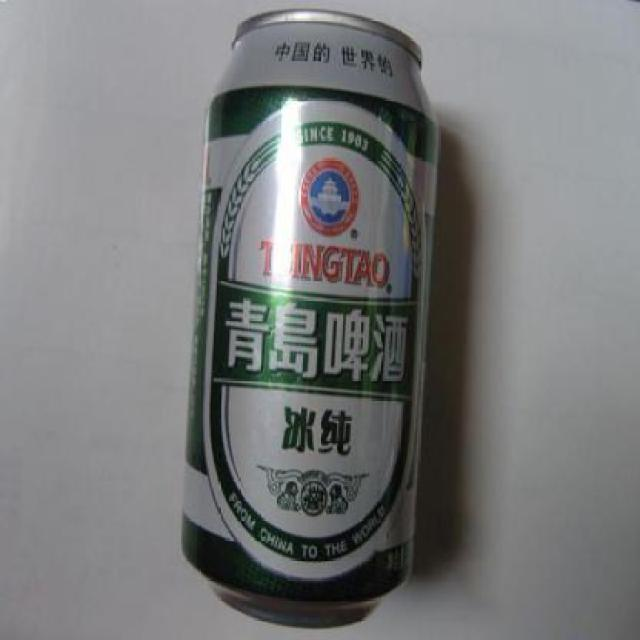Metal: (180, 8, 440, 629)
